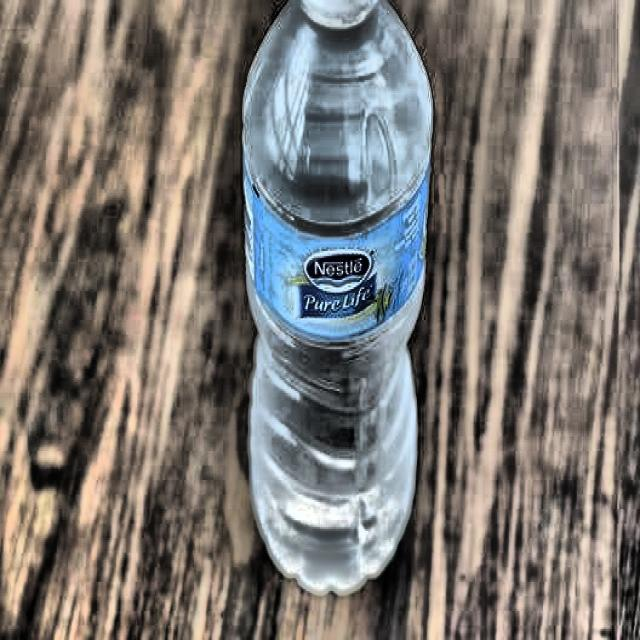Bottles: (225, 0, 434, 600)
